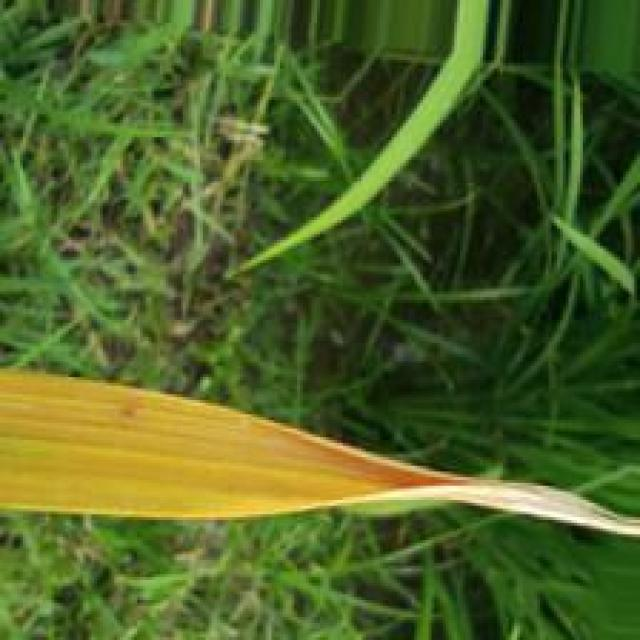Leaf_Scald: (0, 370, 640, 537)
